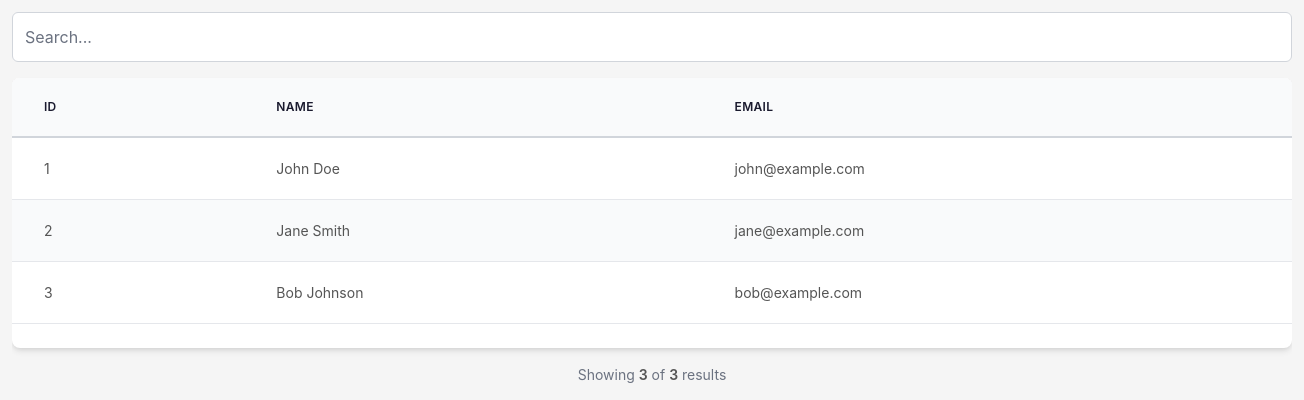
Scenario: DataTable Component › filters data based on search input
Type "Jane" into the field with placeholder "Search..." at (652, 37), box [12,12,1292,62]
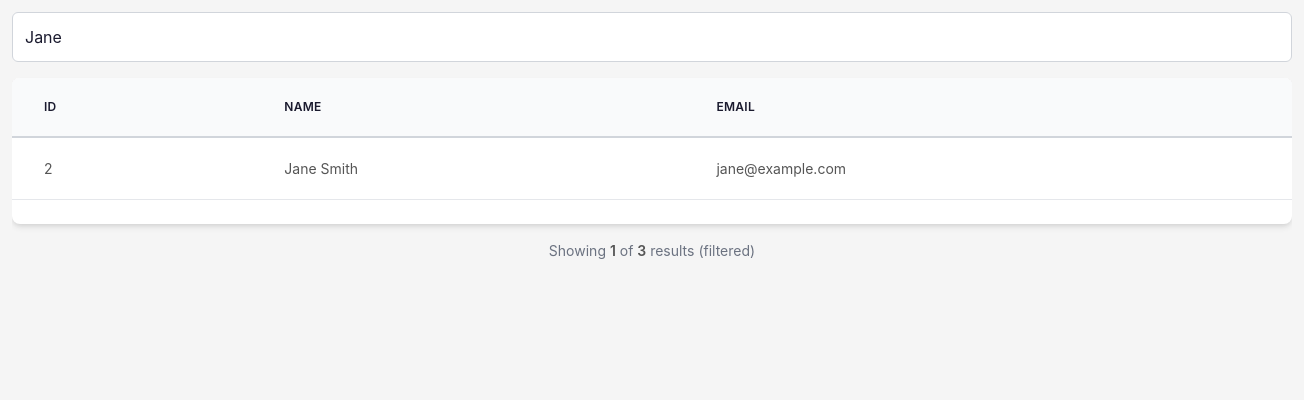
Check: the text "Jane Smith" is shown, box [252,138,684,200]
Check: the text "John Doe" is gone
Check: the text "Bob Johnson" is gone
